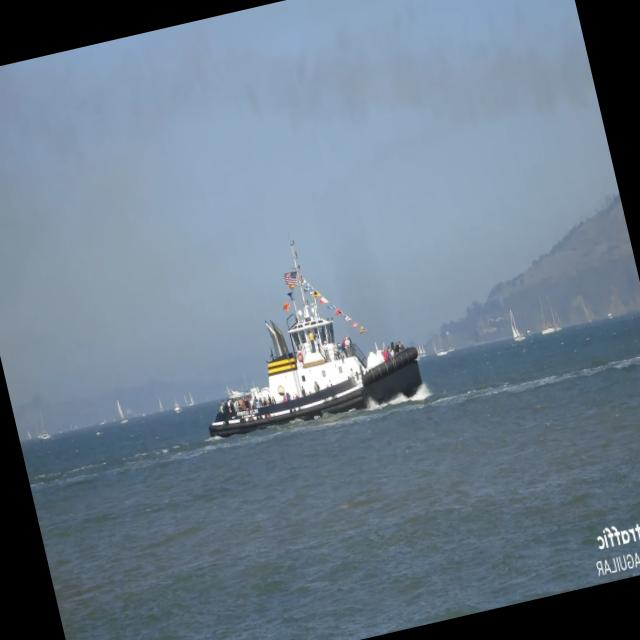Tug: (209, 242, 422, 437)
